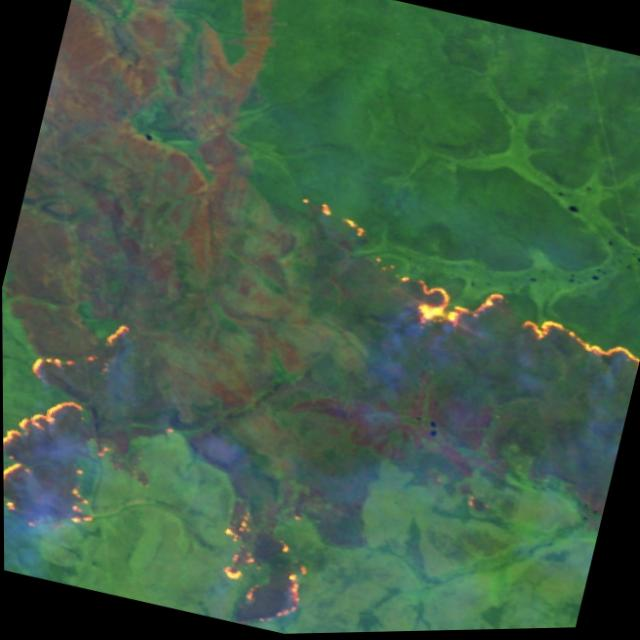fire: (264, 184, 640, 388), (2, 294, 147, 543), (189, 491, 328, 637)
